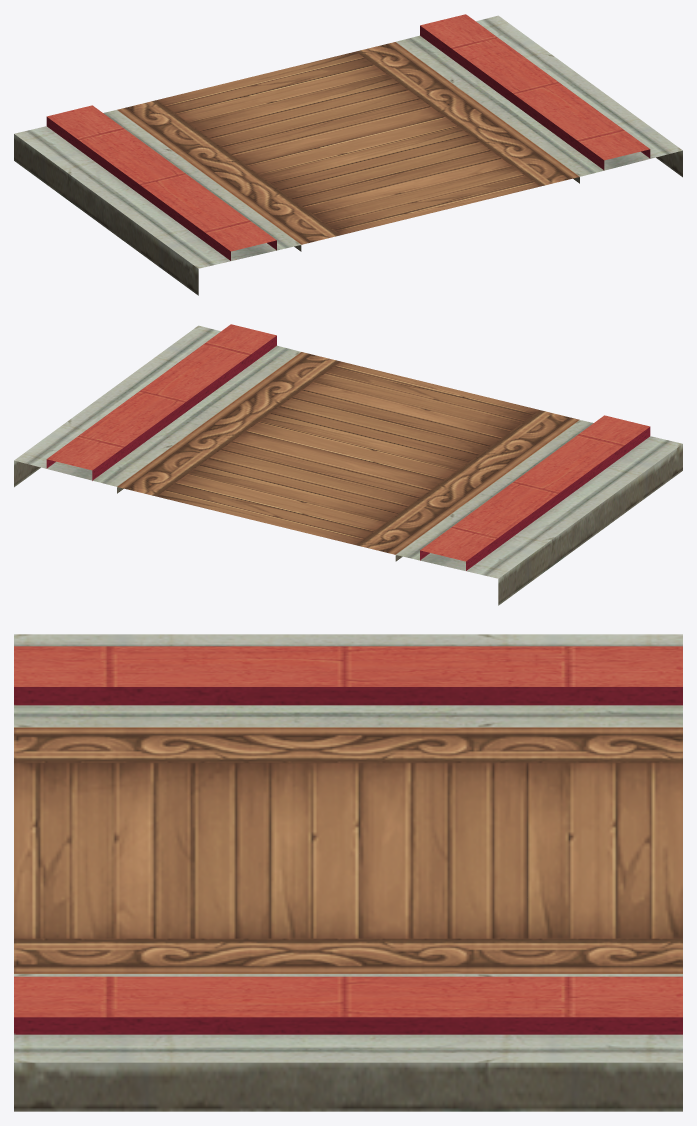
File: FB_Xiaoshengxianzhuang_dibiao.FBX
The picture shows the model from 3 angles, top to bottom: view 1: azimuth 30°, elevation 25°; view 2: azimuth 150°, elevation 25°; view 3: azimuth 270°, elevation 25°; orthographic projection. The views are drawn at different scales.
Visible parts, largest first — view 1: Object07; view 2: Object07; view 3: Object07.
Part boxes in pixels (x1,y1,x2,y2): Object07: (14, 14, 682, 295); Object07: (14, 324, 682, 605); Object07: (14, 634, 682, 1111).
Size of the model in its own units: 15.16 by 1.08 by 10.
